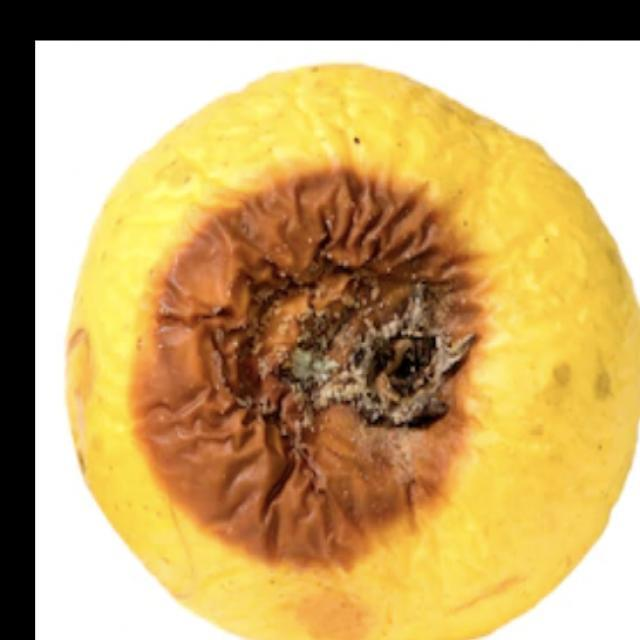Rotten: (80, 73, 640, 640)
